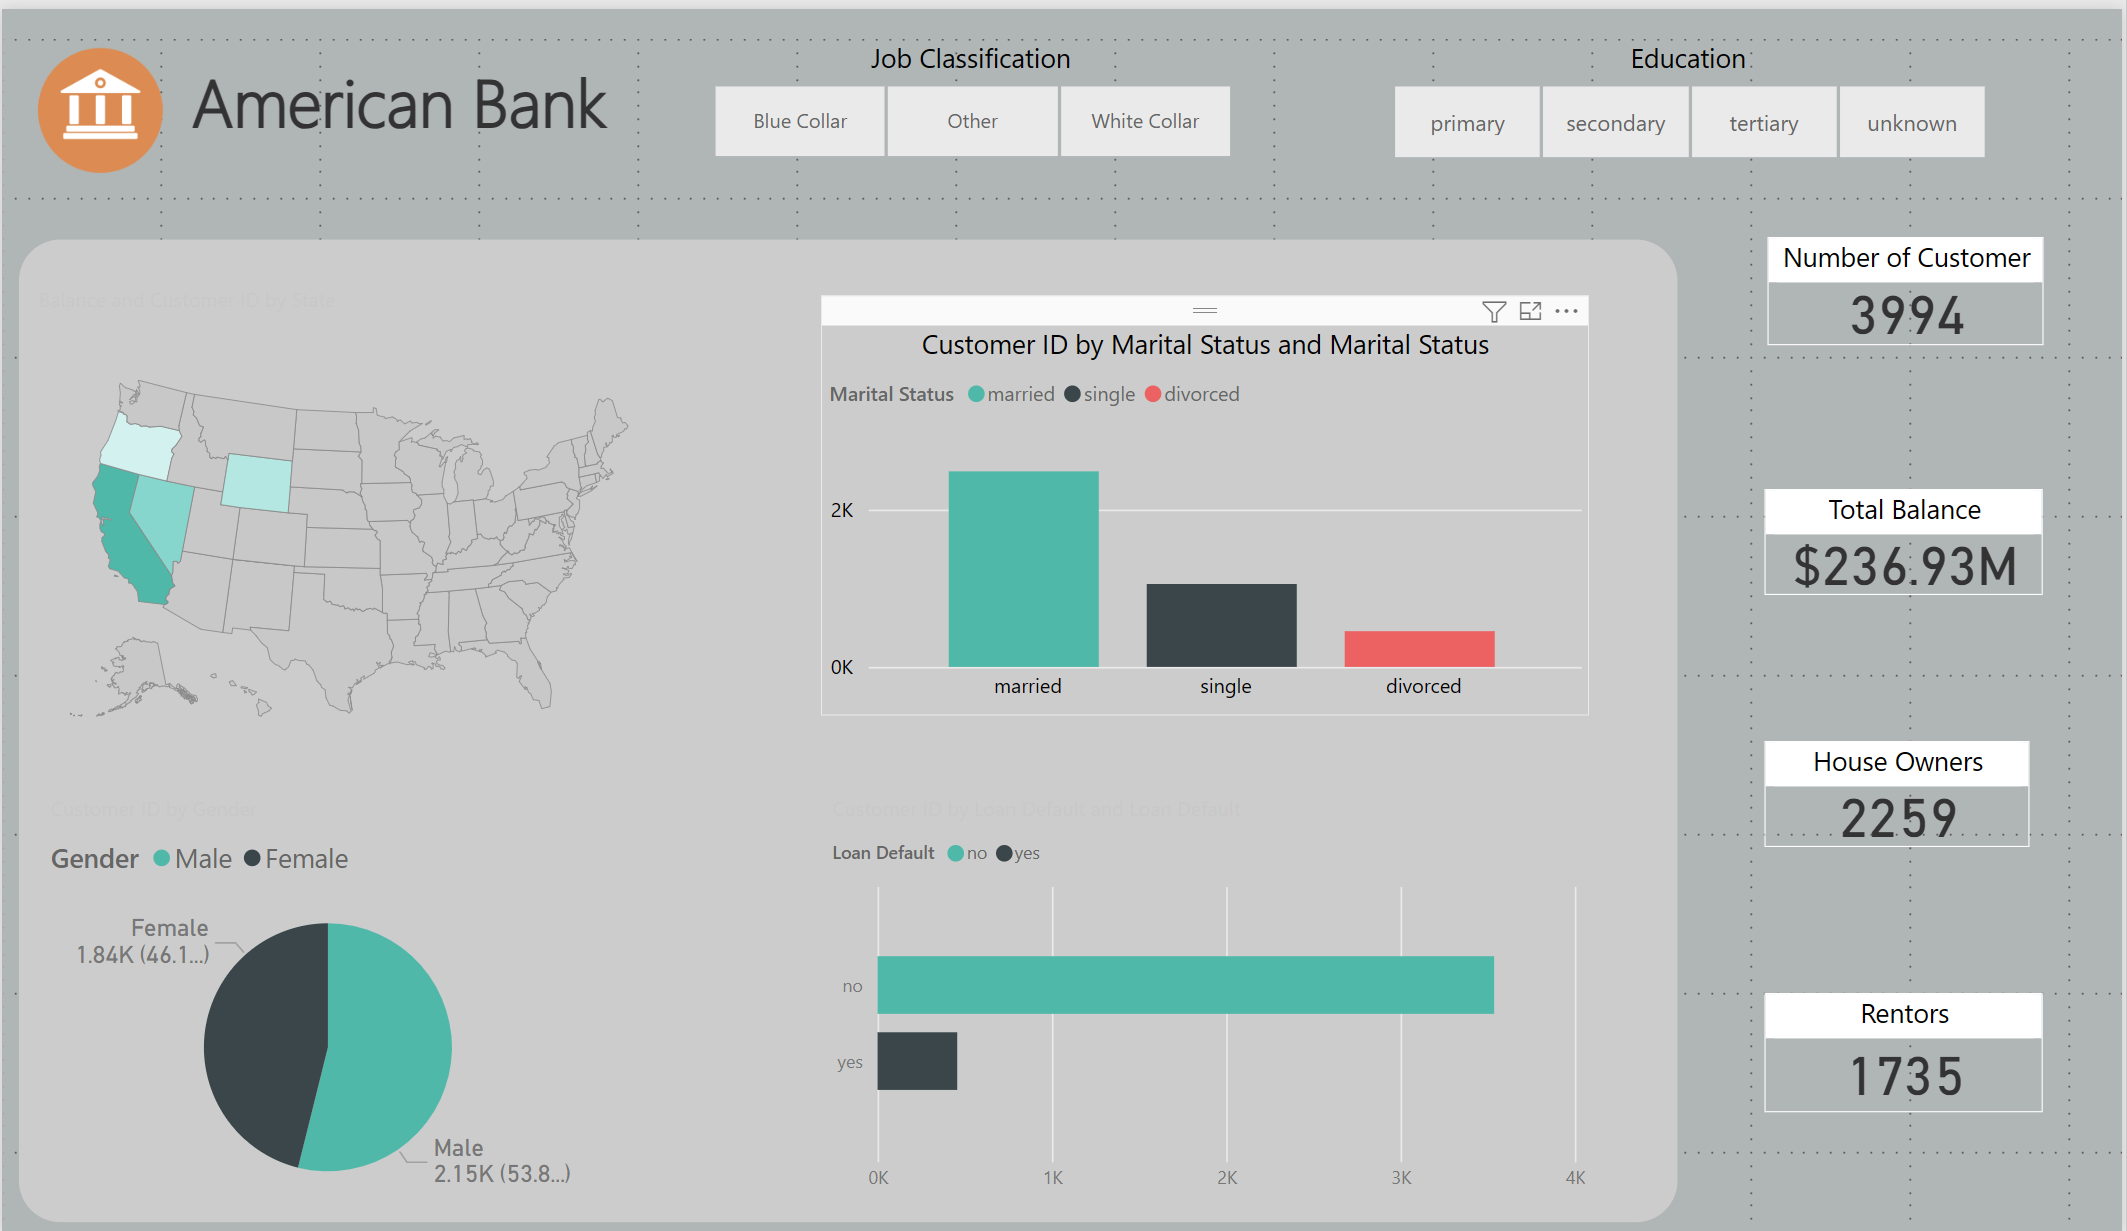

The page's visual inventory and layout, read from the dashboard file:
{"tool":"powerbi","page":{"name":"Customer demographic 1","canvas":[1280,720],"ordinal":0},"visuals":[{"type":"basicShape","box":[0,114.6,1021.8,605.4],"z":0},{"type":"image","box":[0,0,118.3,86.5],"z":1000},{"type":"textbox","box":[109.2,4.6,274.9,75.6],"z":2000},{"type":"slicer","title":"Job Classification","fields":{"Values":["America Bank New.Job Classification"]},"box":[405.1,0,360.5,77.4],"z":3000},{"type":"slicer","title":"Education","fields":{"Values":["America Bank New.Education"]},"box":[814.8,0,406,78.3],"z":4000},{"type":"shapeMap","fields":{"Category":["America Bank New.State"],"Value":["Sum(America Bank New.Balance)"]},"box":[17.3,149.3,384.2,299.5],"z":5000},{"type":"columnChart","fields":{"Category":["America Bank New.Marital Status"],"Y":["CountNonNull(America Bank New.Customer ID)"],"Series":["America Bank New.Marital Status"]},"box":[494.3,173,464.3,235.8],"z":6000},{"type":"card","title":"Number of Customer","fields":{"Values":["CountNonNull(America Bank New.Customer ID)"]},"box":[1066.1,119.3,166.6,65.5],"z":7000},{"type":"card","title":"Total Balance","fields":{"Values":["Sum(America Bank New.Balance)"]},"box":[1064,272,168,64],"z":8000},{"type":"card","title":"House Owners","fields":{"Values":["CountNonNull(America Bank New.Customer ID)"]},"box":[1064,424,160,64],"z":9000},{"type":"card","title":"Rentors","fields":{"Values":["CountNonNull(America Bank New.Customer ID)"]},"box":[1064,576,168,72],"z":10000},{"type":"pieChart","fields":{"Category":["America Bank New.Gender"],"Y":["CountNonNull(America Bank New.Customer ID)"]},"box":[24,456,344,256],"z":11000},{"type":"barChart","fields":{"Category":["America Bank New.Loan Default"],"Y":["CountNonNull(America Bank New.Customer ID)"],"Series":["America Bank New.Loan Default"]},"box":[496,456,464,248],"z":12000}]}

Visuals, with their boxes in screenshot pixels (x1, y1, x2, y2), scaled from the page's 1280x720 canvas onto the 2127x1231 screenshot:
basicShape: BBox(0, 196, 1698, 1230)
image: BBox(0, 0, 197, 148)
textbox: BBox(181, 8, 638, 137)
"Job Classification" slicer: BBox(673, 0, 1272, 132)
"Education" slicer: BBox(1354, 0, 2029, 134)
shapeMap - America Bank New.State x Sum(America Bank New.Balance): BBox(29, 255, 667, 767)
columnChart - America Bank New.Marital Status x CountNonNull(America Bank New.Customer ID): BBox(821, 296, 1593, 699)
"Number of Customer" card: BBox(1772, 204, 2048, 316)
"Total Balance" card: BBox(1768, 465, 2047, 574)
"House Owners" card: BBox(1768, 725, 2034, 834)
"Rentors" card: BBox(1768, 985, 2047, 1108)
pieChart - America Bank New.Gender x CountNonNull(America Bank New.Customer ID): BBox(40, 780, 612, 1217)
barChart - America Bank New.Loan Default x CountNonNull(America Bank New.Customer ID): BBox(824, 780, 1595, 1204)
